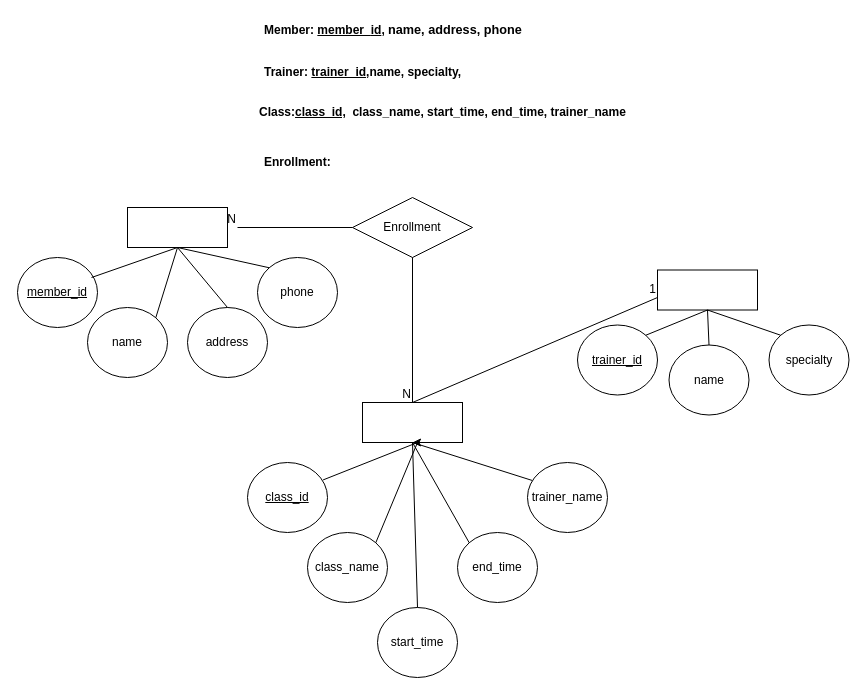
The diagram is 867 pixels wide and 695 high, and some of its shapes have lost their labels. Each missing label, with the centre of its shape:
"Class" goes at [412,422].
"Member" goes at [177,227].
"Trainer" goes at [707,289].
